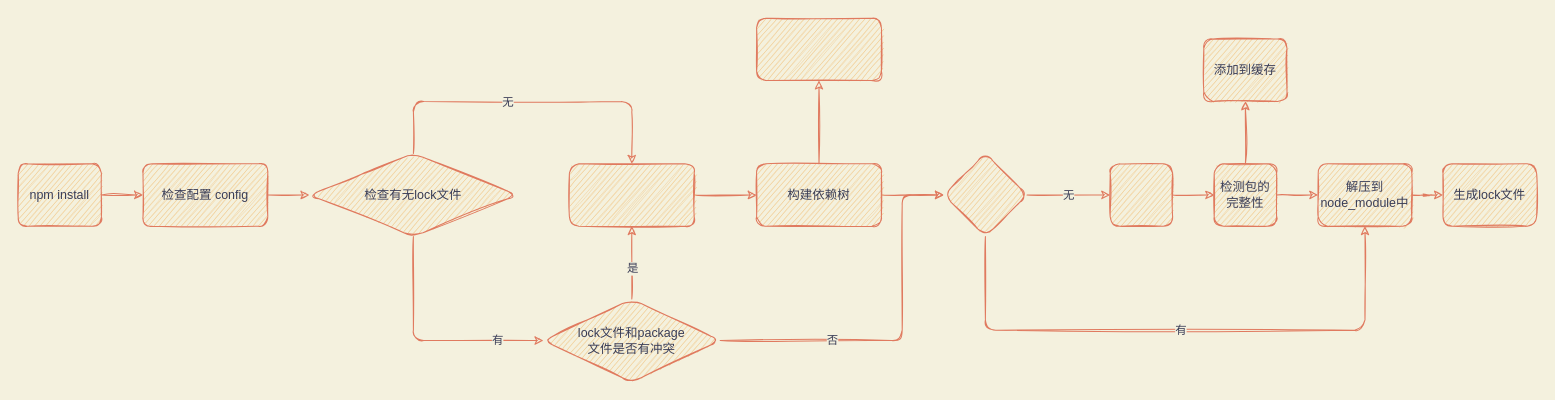
Image size: 1555x400. Some labels were removed from this diagram. The box of each missing label's shape, as (x1, y1, x2, y2) in pixels:
开始下载远程的包: (1109, 163, 1173, 226)
扁平化(npm3+): (756, 17, 881, 81)
检查缓存: (943, 152, 1027, 237)
远程获取package包的信息: (568, 163, 694, 226)
